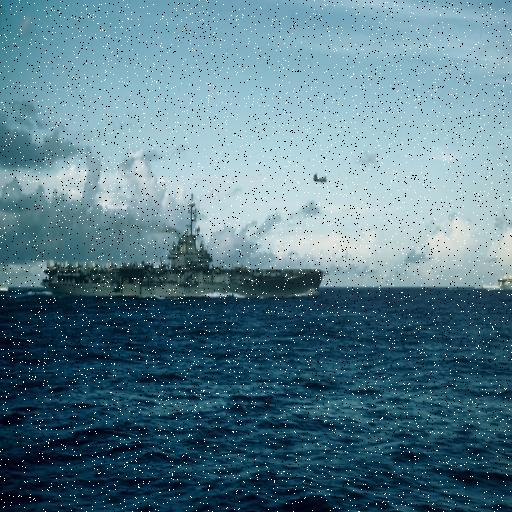Portanaves: (38, 187, 330, 308)
